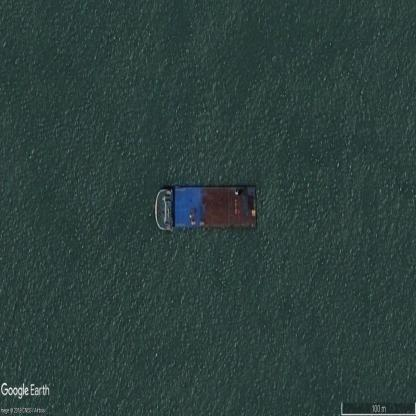ship: (155, 185, 258, 232)
